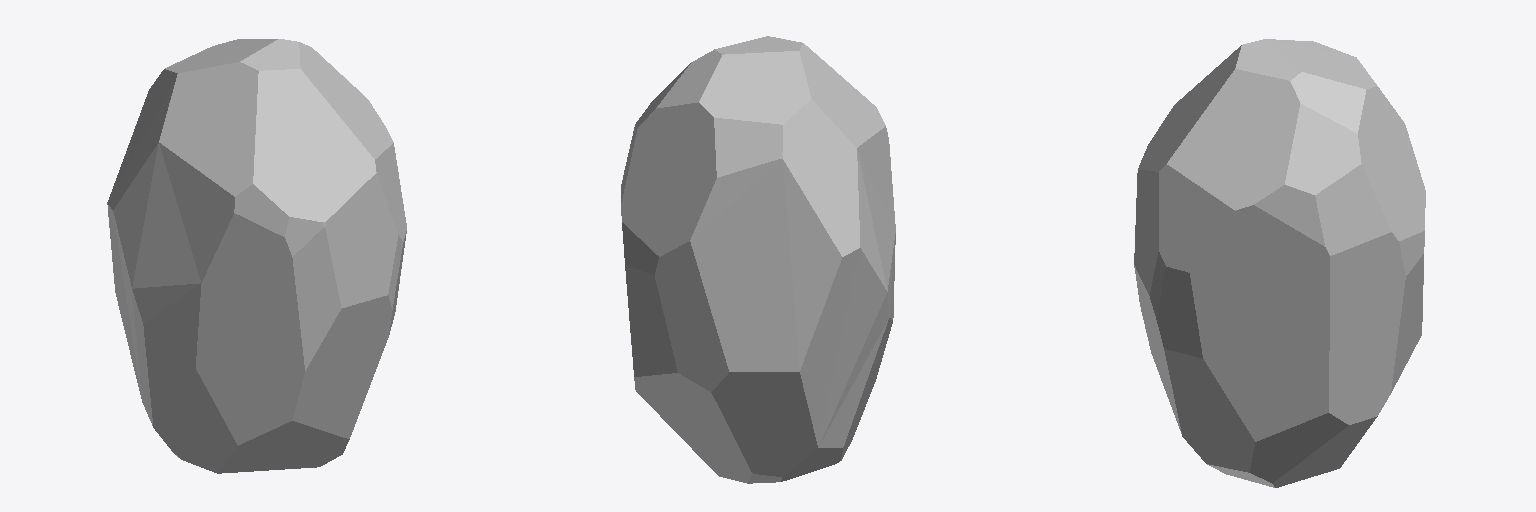
Rendered from middleStone0.obj.
3 views of the same model, side by side, from view 1: azimuth 30°, elevation 25°; view 2: azimuth 150°, elevation 25°; view 3: azimuth 270°, elevation 25° (orthographic).
Parts seen in each view (by area): view 1: bisect; view 2: bisect; view 3: bisect.
Part boxes in pixels (x1,y1,x2,y2): bisect: (107,39,406,473); bisect: (621,36,895,483); bisect: (1134,39,1425,487).
Size of the model in its own units: 61.9 by 99.85 by 64.25.